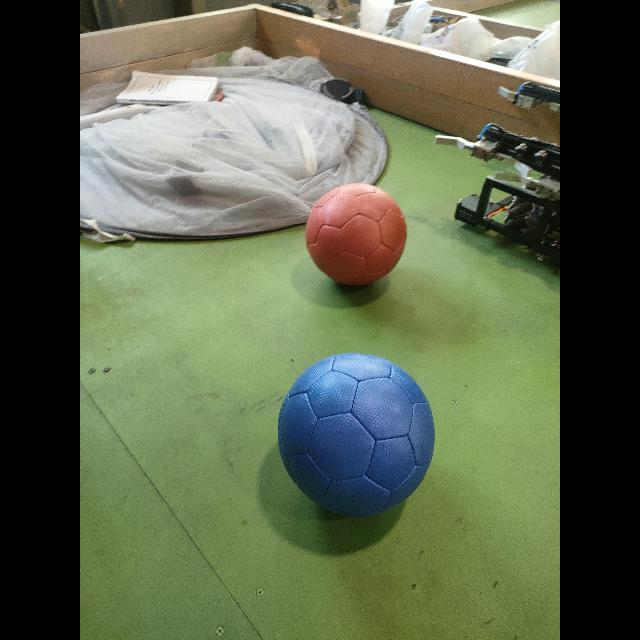B: (277, 353, 436, 519)
R: (305, 184, 408, 289)
